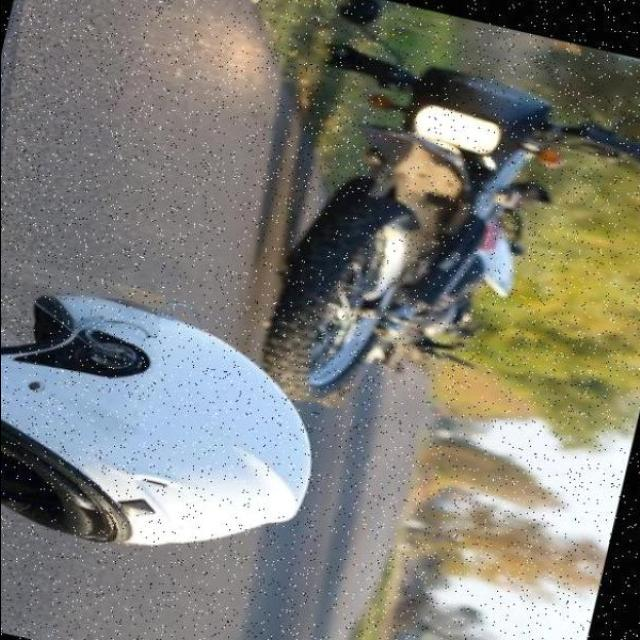accident: (210, 0, 640, 510)
